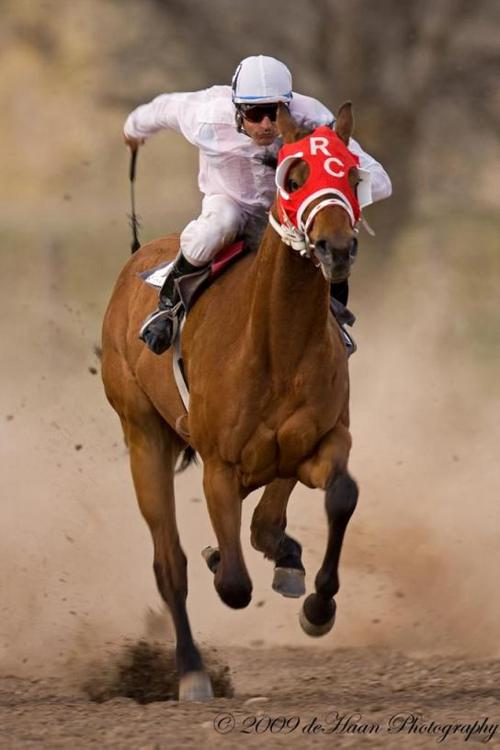person: (124, 52, 392, 352)
